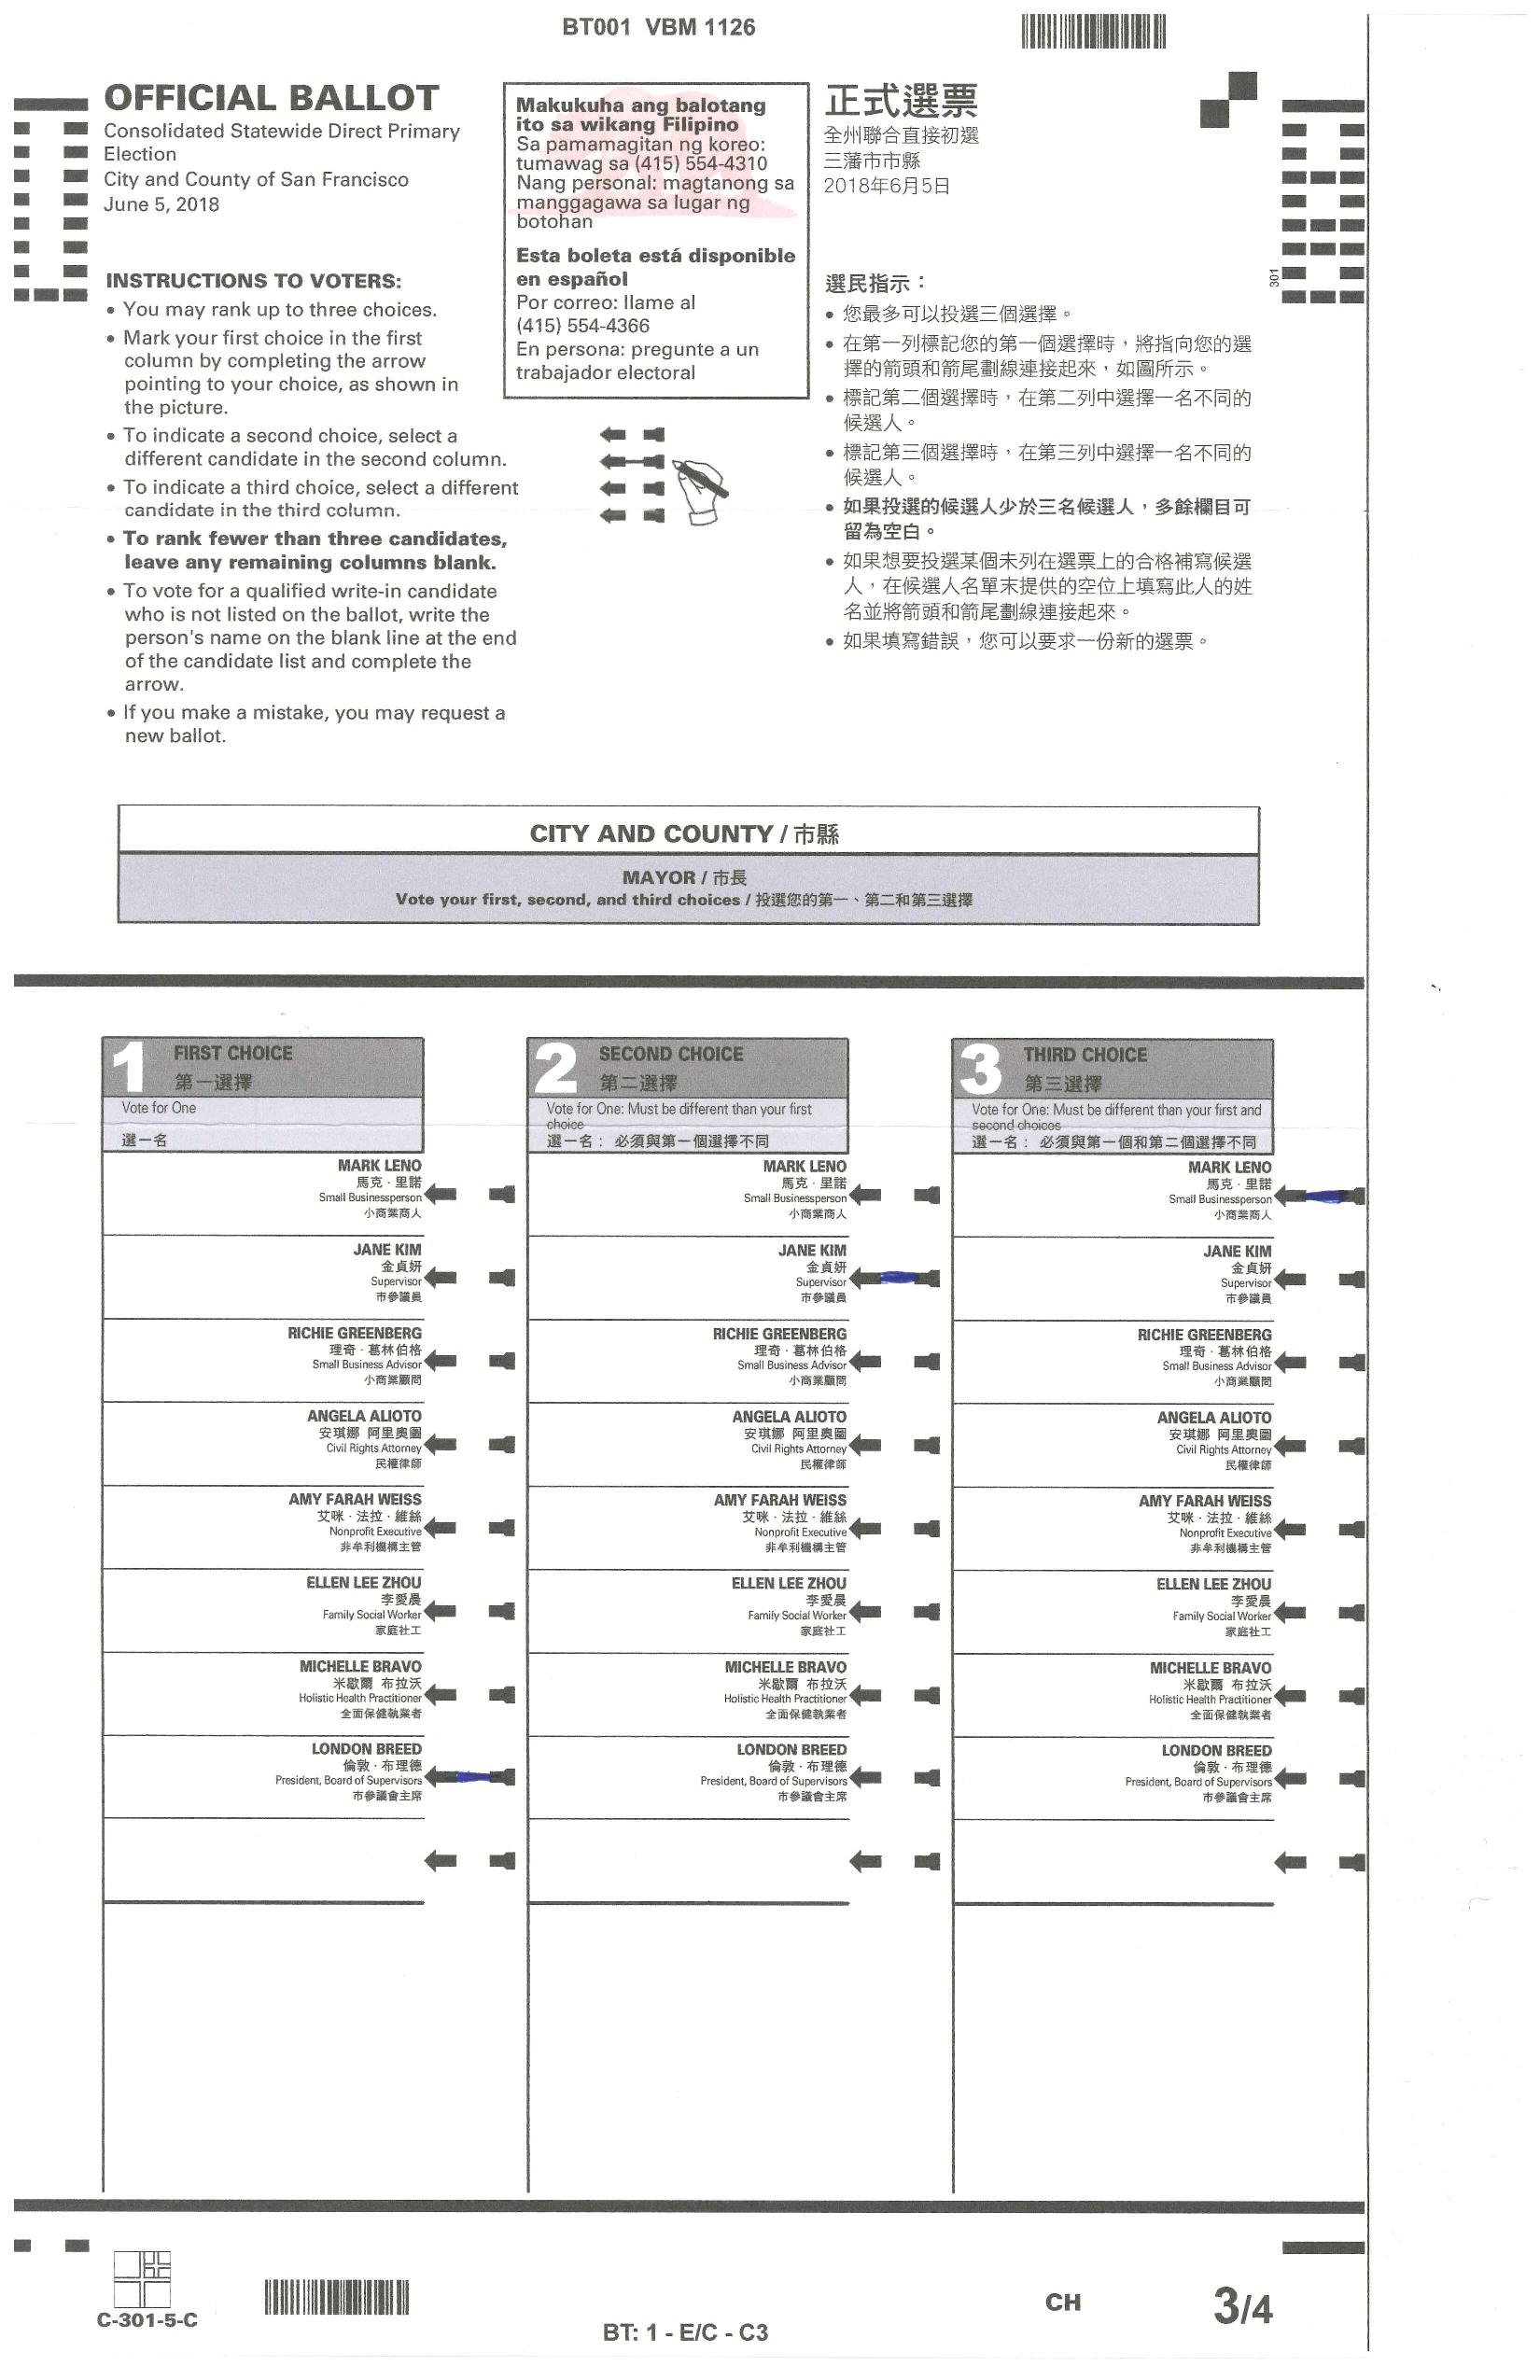marked: (848, 1261, 943, 1292), (1275, 1181, 1365, 1211), (425, 1764, 519, 1787)
unmarked: (423, 1348, 520, 1376), (1273, 1599, 1367, 1627), (848, 1598, 942, 1625), (1273, 1764, 1365, 1790), (848, 1766, 942, 1790), (848, 1518, 943, 1540), (423, 1516, 515, 1539), (846, 1351, 945, 1372)
